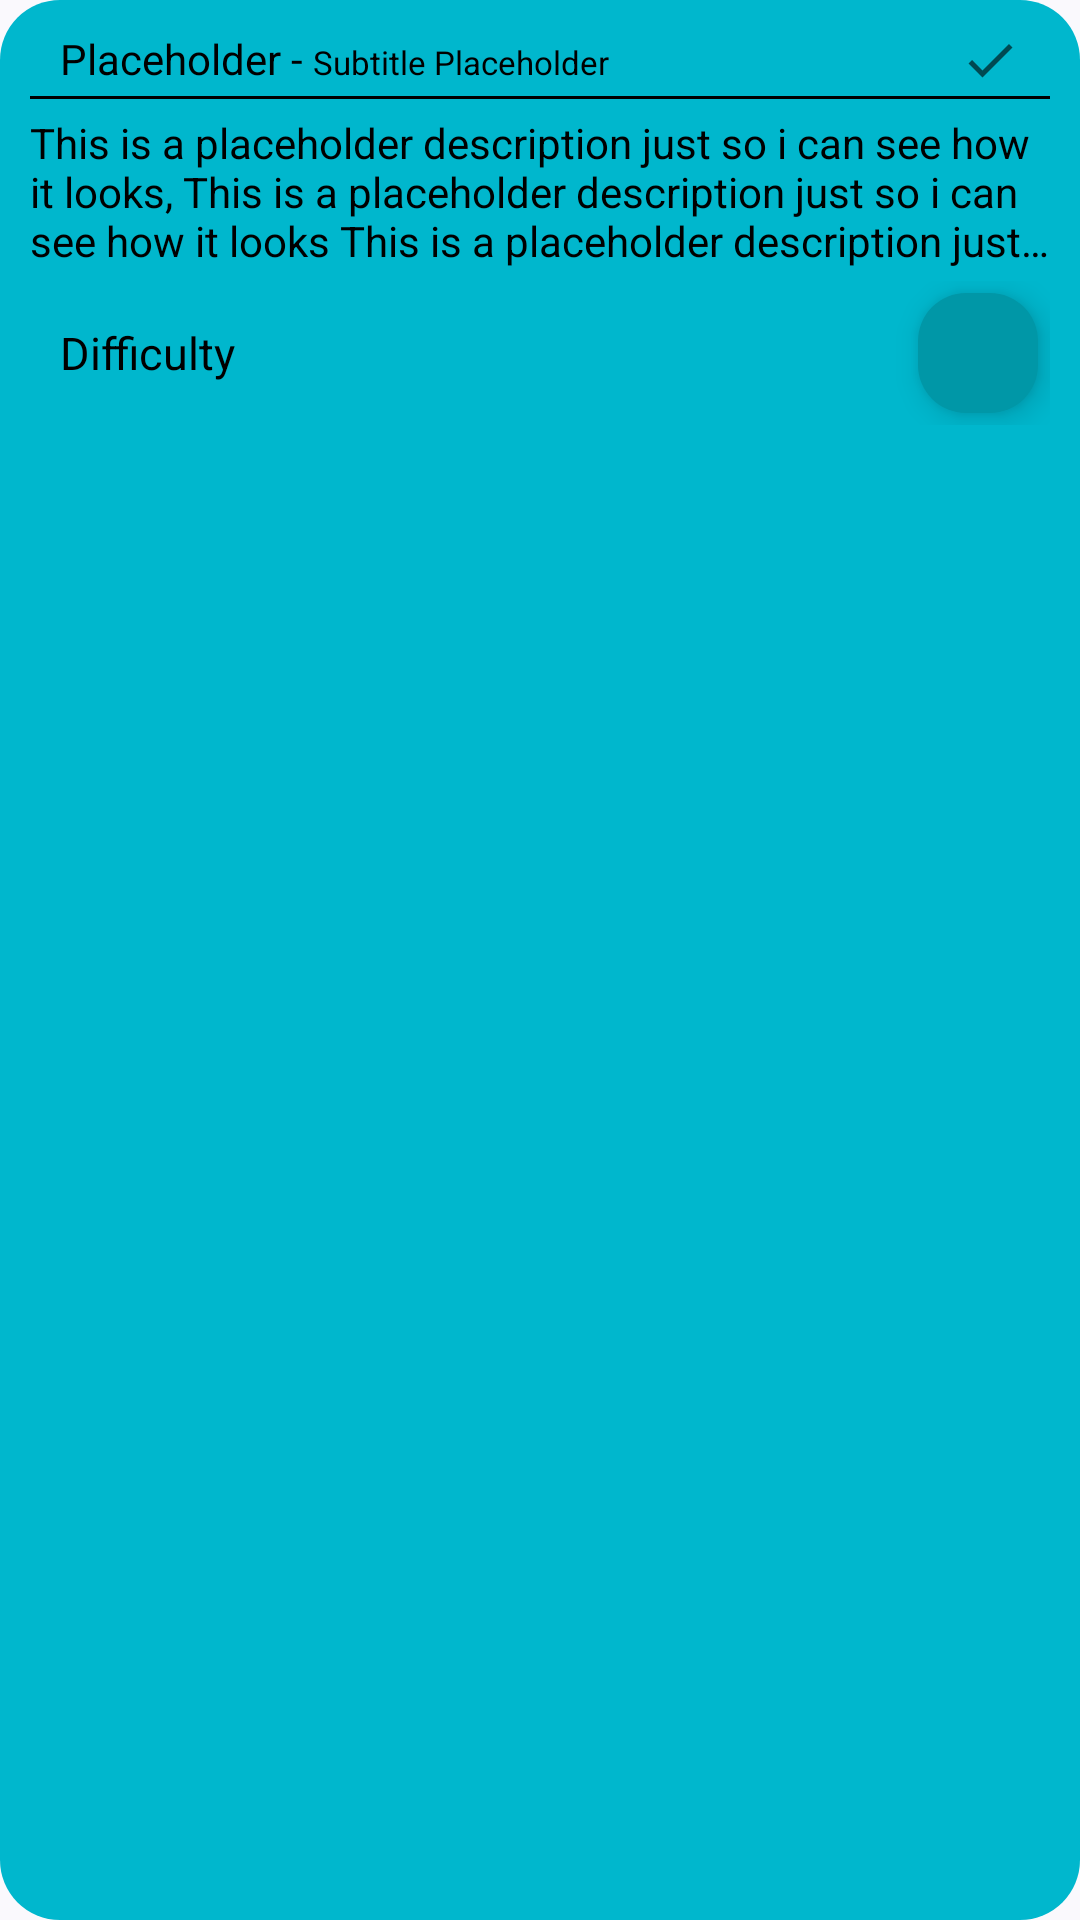

Icon bounding boxes for this 1080×1920 phone screenshot, format bbox(x1, y1, x2, y2):
Complete: bbox(968, 44, 1013, 78)
